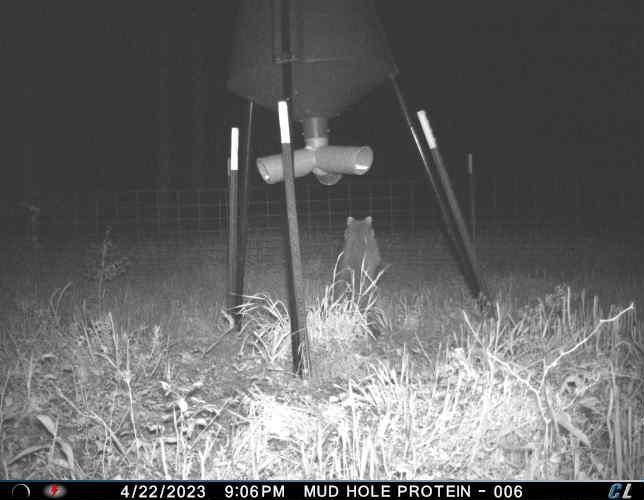Raccoon: (335, 215, 385, 313)
